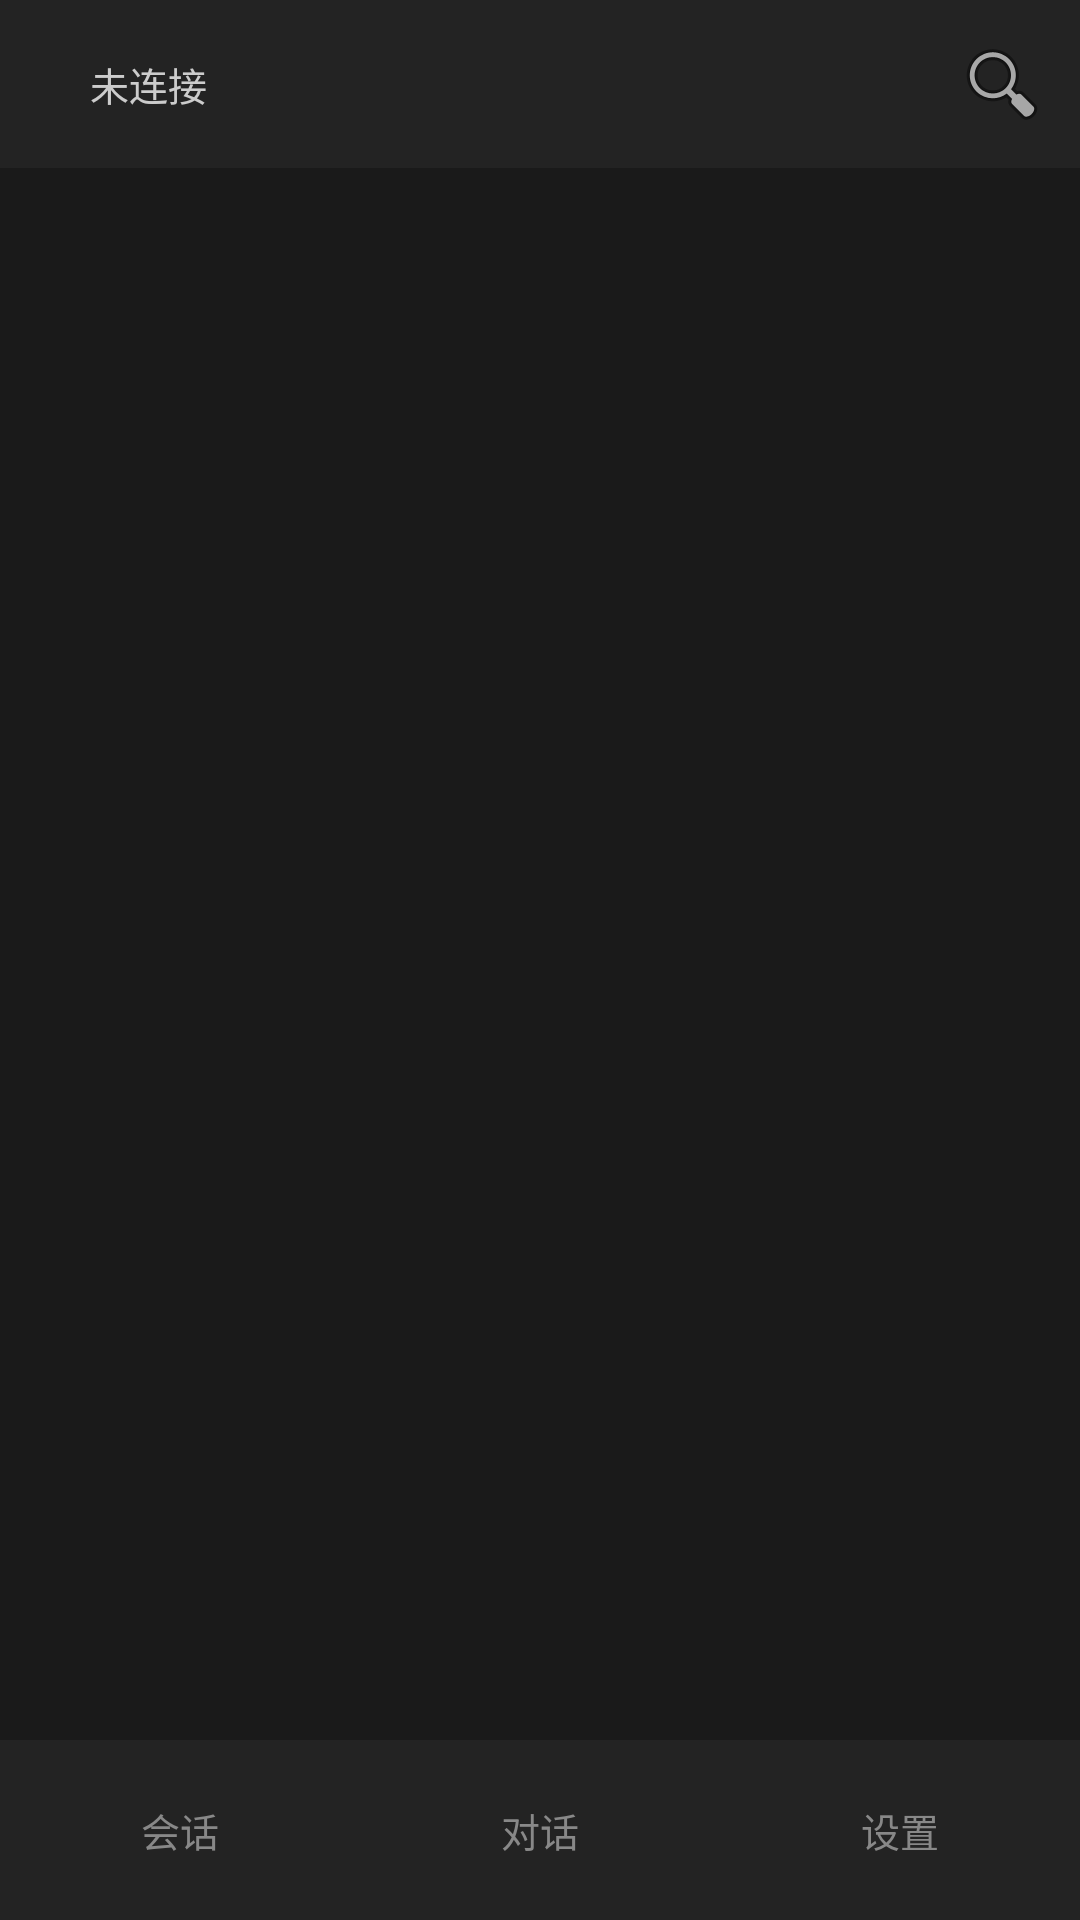

Icon click points for this 1080 × 1920 phone screenshot, format (x,y):
搜索对话: (1002,84)
